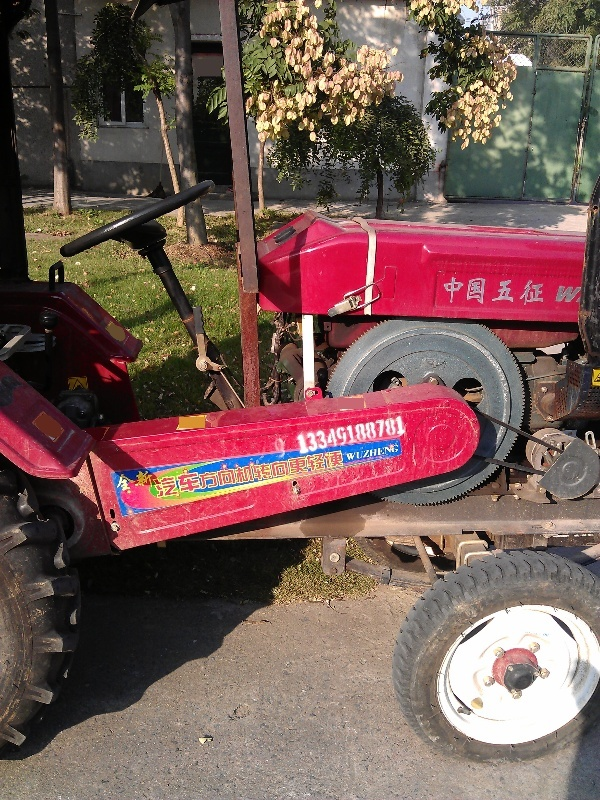text: (161, 448, 176, 499), (177, 448, 192, 499), (193, 448, 208, 499), (209, 448, 224, 499), (225, 448, 240, 499), (241, 448, 256, 499), (257, 448, 272, 499), (273, 448, 288, 499), (289, 448, 304, 499), (305, 448, 320, 499), (321, 448, 336, 499), (305, 415, 320, 453), (321, 415, 336, 453), (337, 415, 352, 453), (353, 415, 368, 453), (369, 415, 384, 453), (385, 415, 400, 453), (529, 275, 545, 308), (449, 275, 464, 308), (465, 275, 480, 308), (481, 275, 496, 308), (497, 275, 512, 308), (513, 275, 528, 308), (337, 448, 346, 499), (129, 469, 144, 494), (153, 448, 160, 499), (115, 469, 128, 494), (561, 284, 576, 303), (353, 444, 368, 463), (369, 444, 384, 463), (385, 444, 400, 463), (297, 415, 304, 453), (401, 415, 408, 453), (145, 469, 154, 494), (444, 275, 448, 308), (555, 284, 560, 303), (347, 444, 352, 463), (577, 284, 581, 303), (401, 444, 402, 463)
